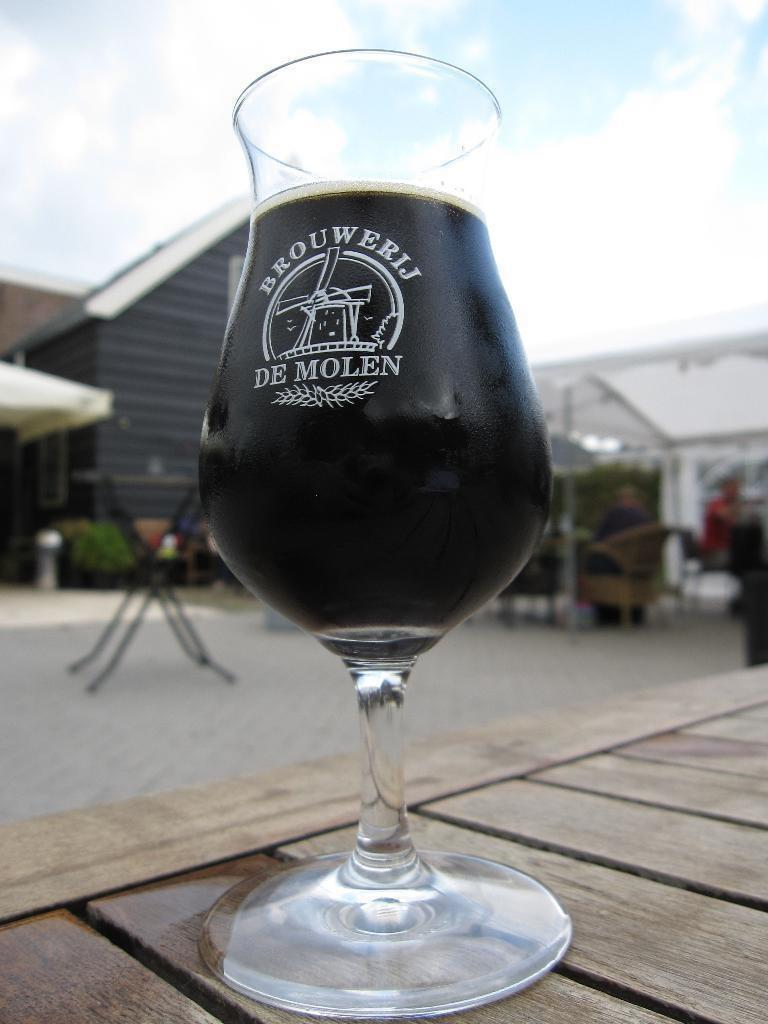glass-wine: (195, 49, 576, 1020)
